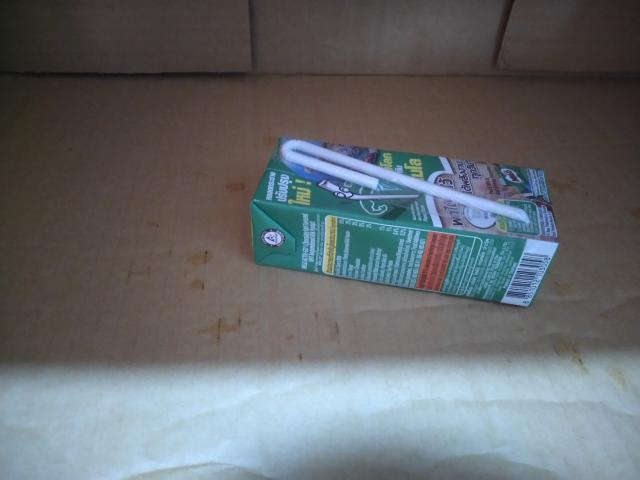drink_box: (244, 125, 570, 316)
